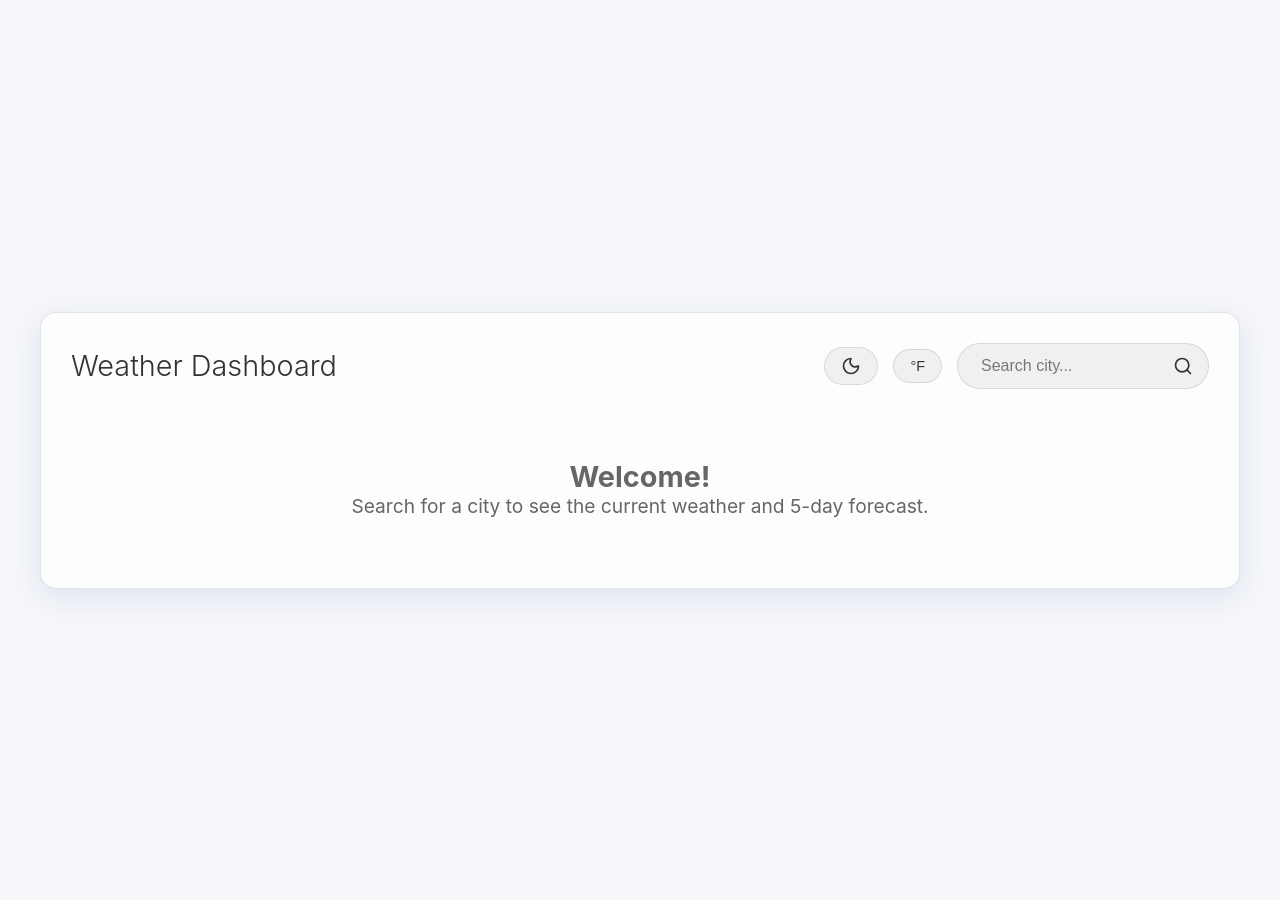
Scenario: App Theme Integration › should render with default light theme and switch to dark theme when toggled
The width and height of the screenshot is (1280, 900).
Note: Click to switch to dark theme
What coordinates should you click on to do the following:
click the button titled "Switch to dark mode"
I would click on:
 (851, 366)
Its box is top-left (824, 346), bottom-right (878, 384).
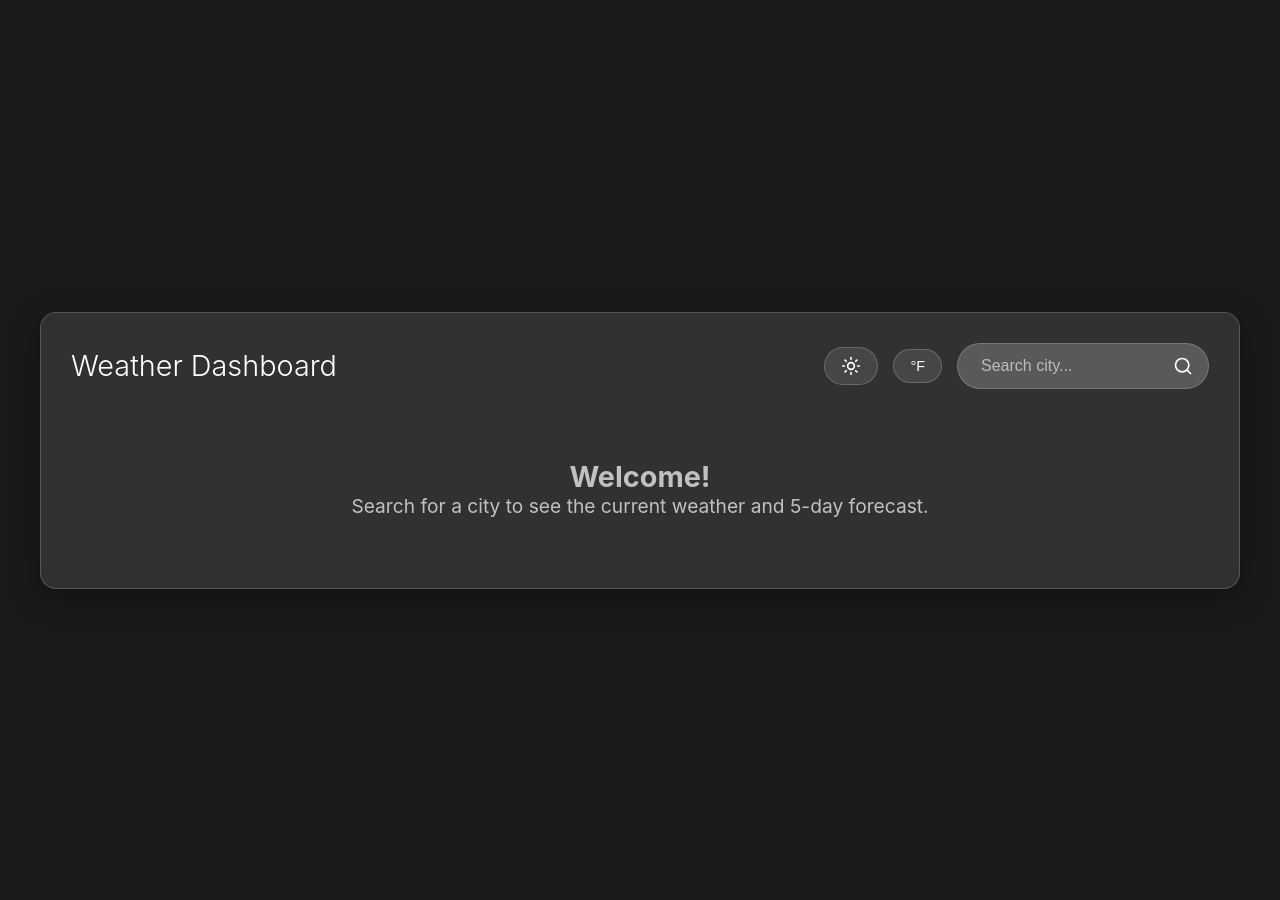
Expected: the button titled "Switch to light mode" is shown, top-left (824, 346), bottom-right (878, 384)
